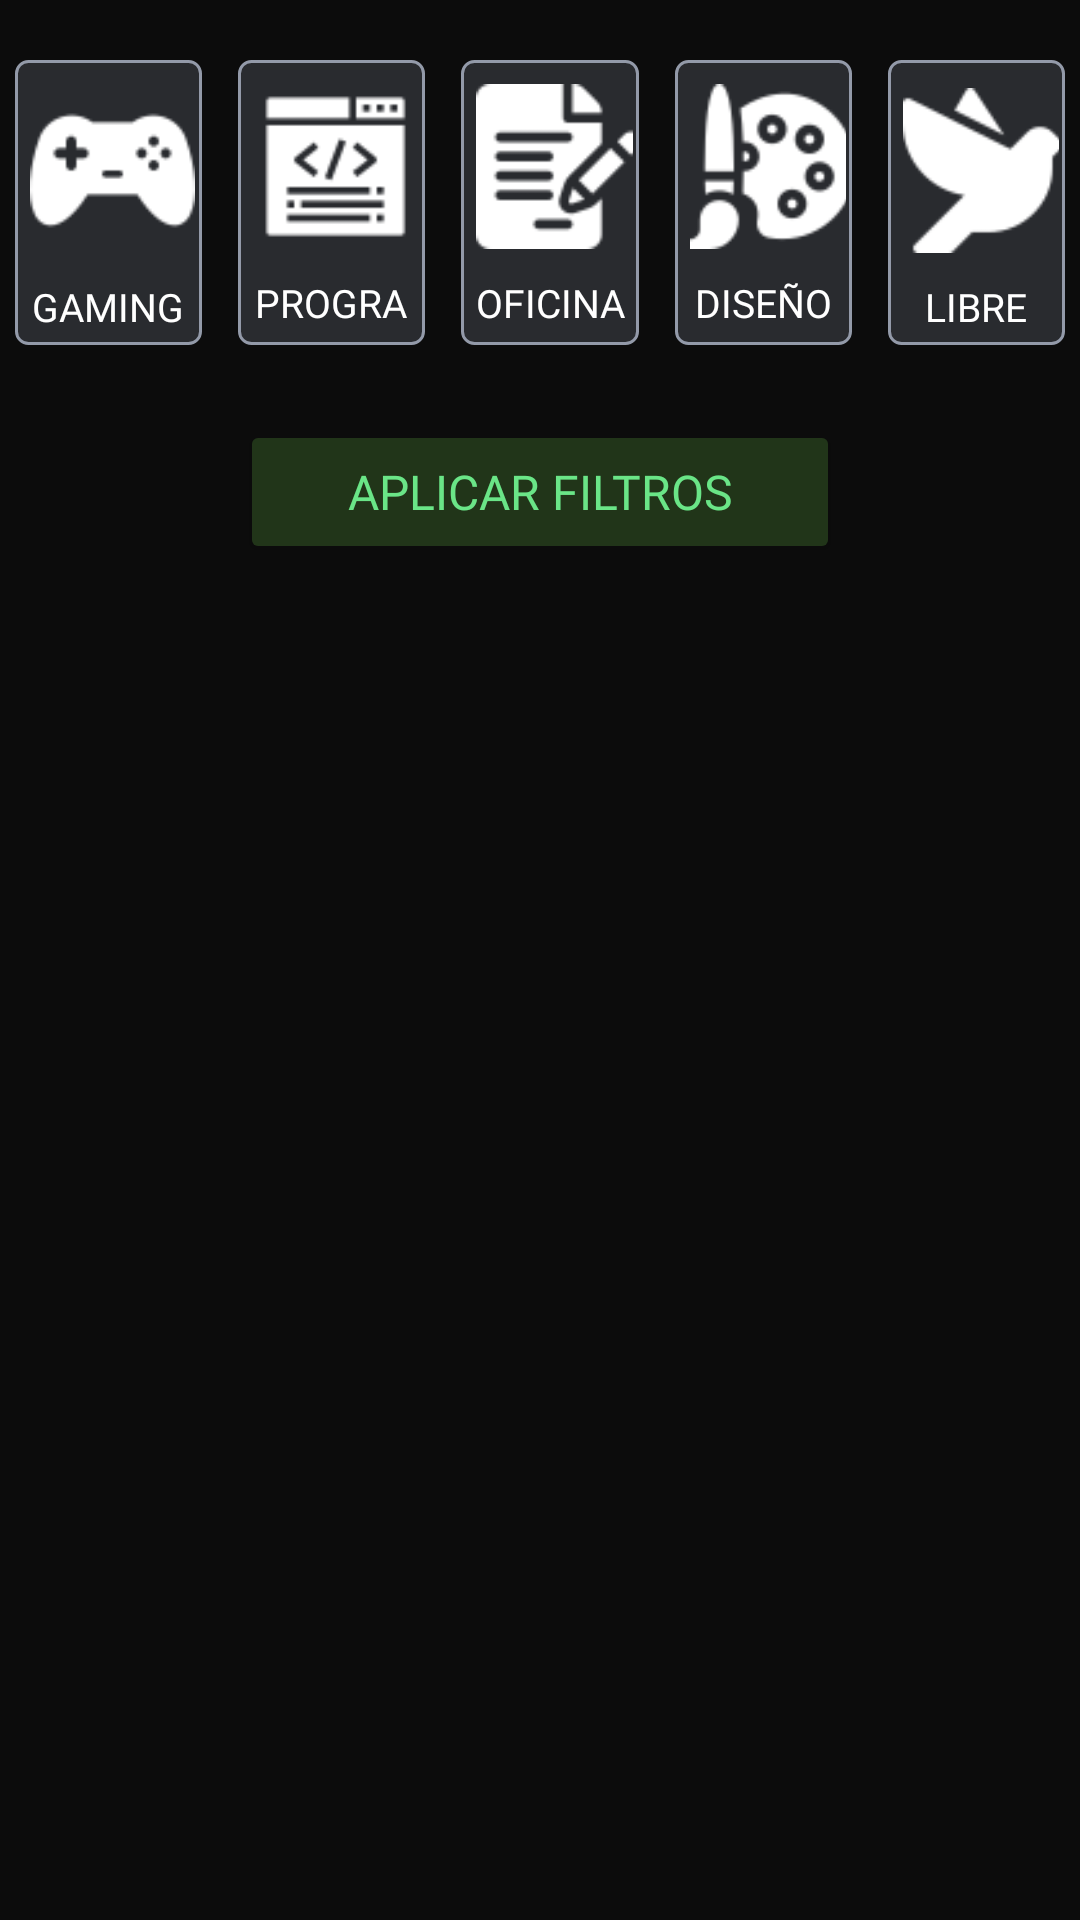

Icon bounding boxes for this 1080w x 1920h phone screenshot, format (x1,y1,x2,y2):
mando: (30,113,195,228)
